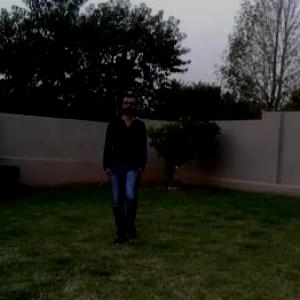follow: (99, 91, 152, 246)
